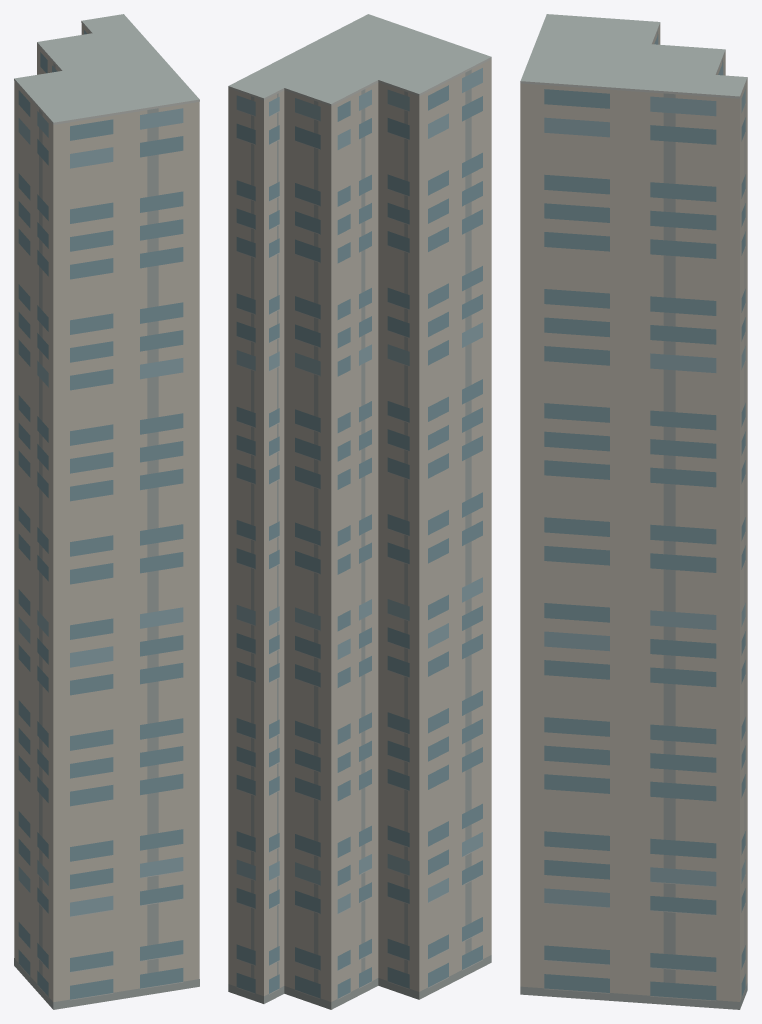
Rendered from residential-24fcc8ce-7512-474c-8cb9-ab6ad35fd6e9.glb.
The picture shows the model from 3 angles, left to right: view 1: azimuth 30°, elevation 25°; view 2: azimuth 150°, elevation 25°; view 3: azimuth 270°, elevation 25°; orthographic projection. The views are drawn at different scales.
Parts seen in each view (by area): view 1: residential-24fcc8ce-7512-474c-8cb9-ab6ad35fd6e9.tmp; view 2: residential-24fcc8ce-7512-474c-8cb9-ab6ad35fd6e9.tmp; view 3: residential-24fcc8ce-7512-474c-8cb9-ab6ad35fd6e9.tmp.
Part boxes in pixels (x1,y1,x2,y2): residential-24fcc8ce-7512-474c-8cb9-ab6ad35fd6e9.tmp: (14,14,199,1009); residential-24fcc8ce-7512-474c-8cb9-ab6ad35fd6e9.tmp: (228,14,491,1009); residential-24fcc8ce-7512-474c-8cb9-ab6ad35fd6e9.tmp: (520,14,747,1009).
Bounding box in the file's own units: 18.91 × 97.6 × 22.
